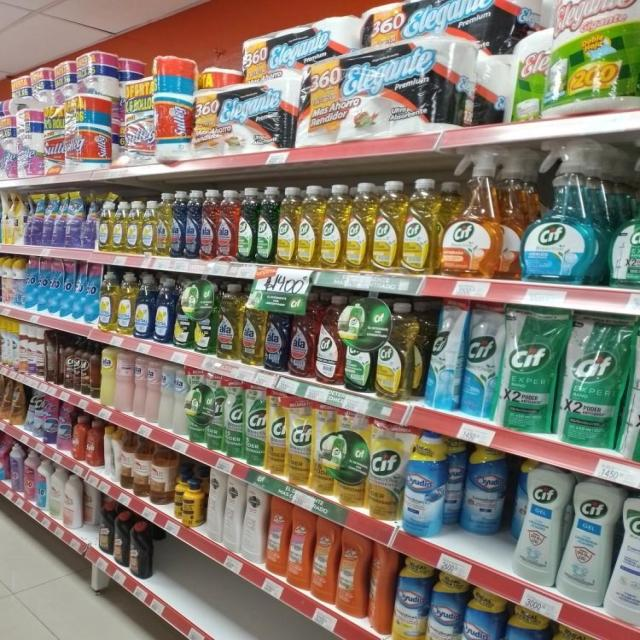ala_conc_amarillo: (217, 284, 241, 361), (242, 288, 264, 366), (155, 193, 170, 257)
ala_conc_azul: (266, 292, 288, 372), (186, 189, 200, 260), (171, 190, 185, 259)
ala_conc_rojo: (289, 293, 315, 378), (218, 189, 238, 262), (200, 189, 218, 260)
ala_crem_amarillo: (116, 349, 132, 414), (100, 345, 115, 408)
cif_conc_bot_amarilla: (440, 180, 500, 278), (377, 300, 419, 401), (403, 179, 438, 275), (373, 180, 402, 272), (347, 181, 372, 271), (321, 183, 346, 269), (298, 184, 321, 268), (277, 186, 298, 265)
cif_conc_botella_roja: (316, 294, 344, 385)
cif_conc_botella_verde: (257, 186, 276, 264), (238, 187, 256, 262)
cif_conc_sachet_amarillo: (368, 419, 403, 521), (330, 410, 366, 506), (287, 397, 311, 487), (313, 404, 335, 495), (266, 392, 286, 476)
cif_conc_sachet_verde: (245, 386, 265, 467), (224, 381, 244, 459)
magistral_con_amarillo: (118, 272, 134, 336), (100, 270, 116, 332), (125, 200, 141, 254), (84, 192, 98, 250), (111, 199, 125, 253), (141, 198, 154, 256), (98, 197, 111, 252)
magistral_con_azul: (154, 277, 174, 343), (134, 275, 153, 339)
